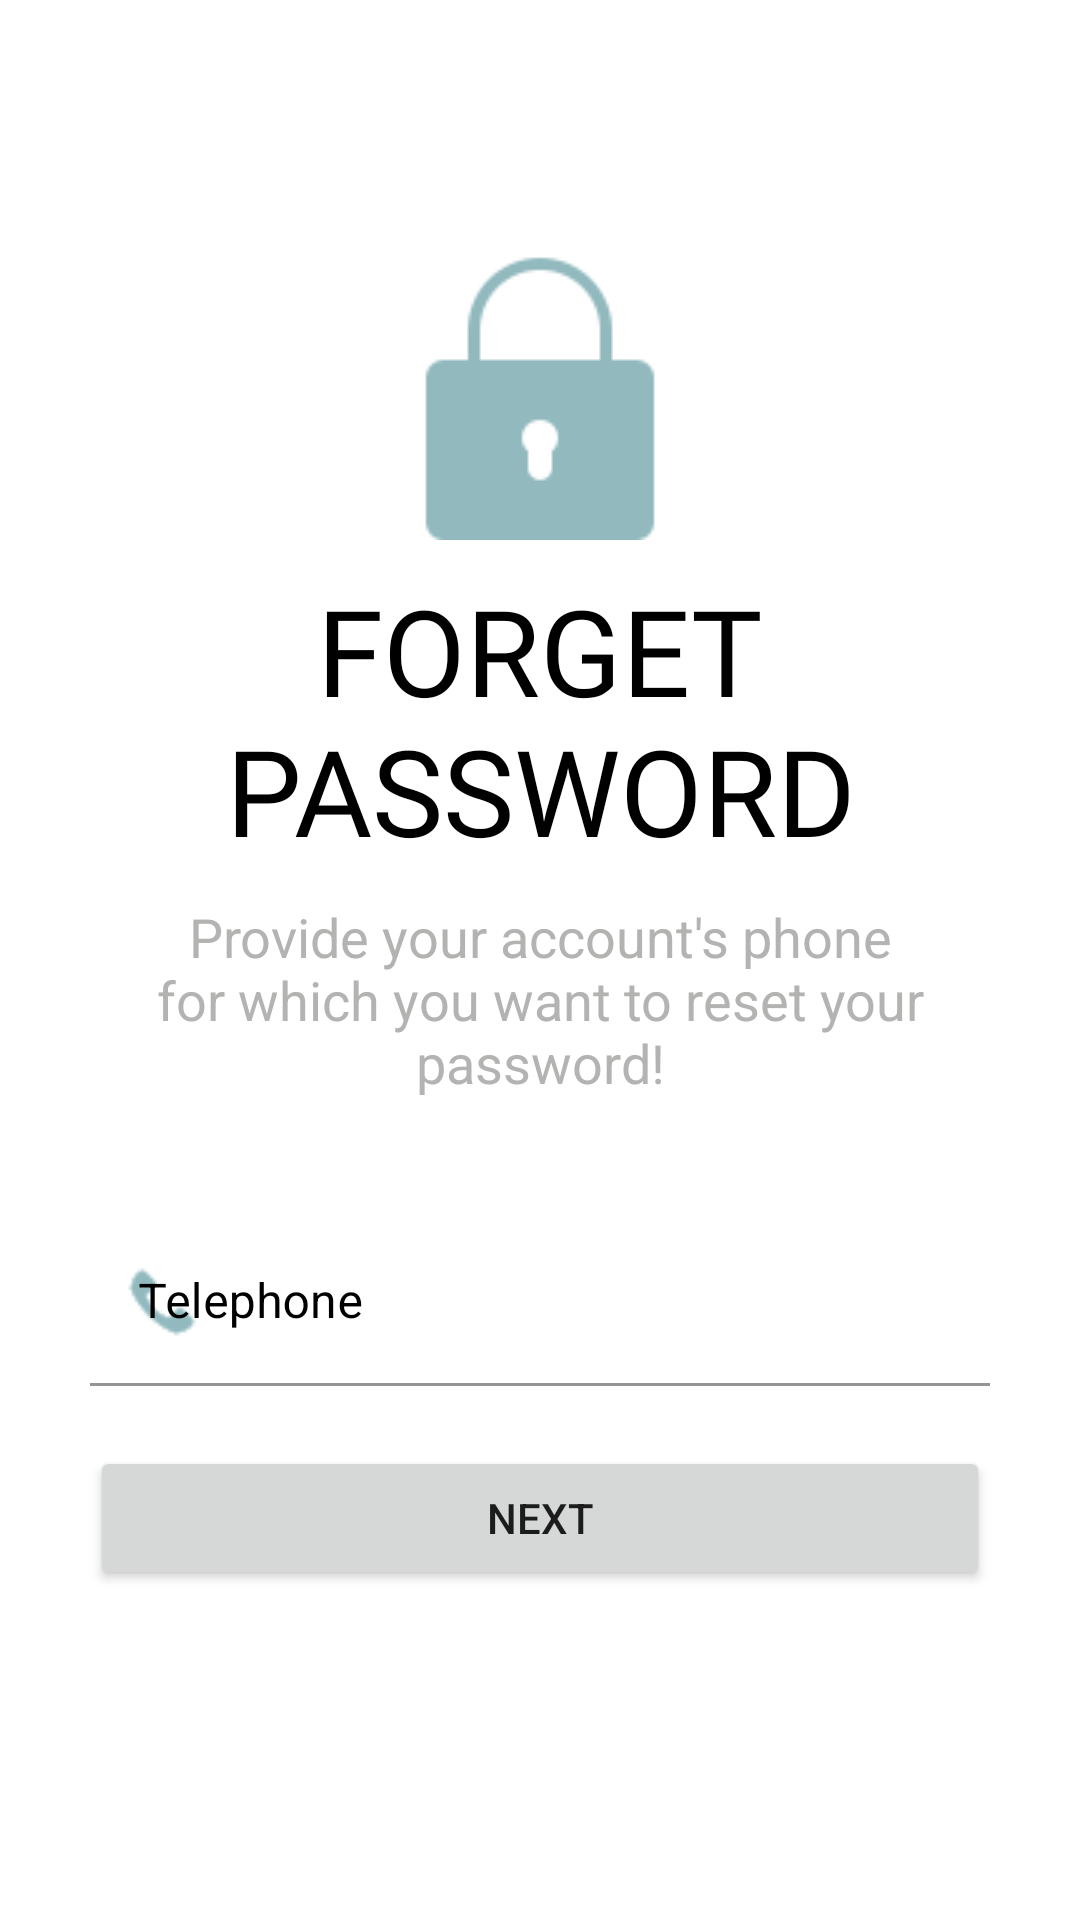

Icon click points for this 1080 × 1920 phone screenshot, format (x,y):
blacklock: (540,398)
